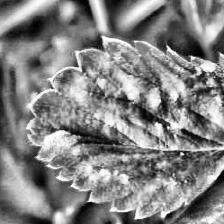Powdery Mildew Leaf: (24, 34, 224, 220), (128, 161, 224, 224)
